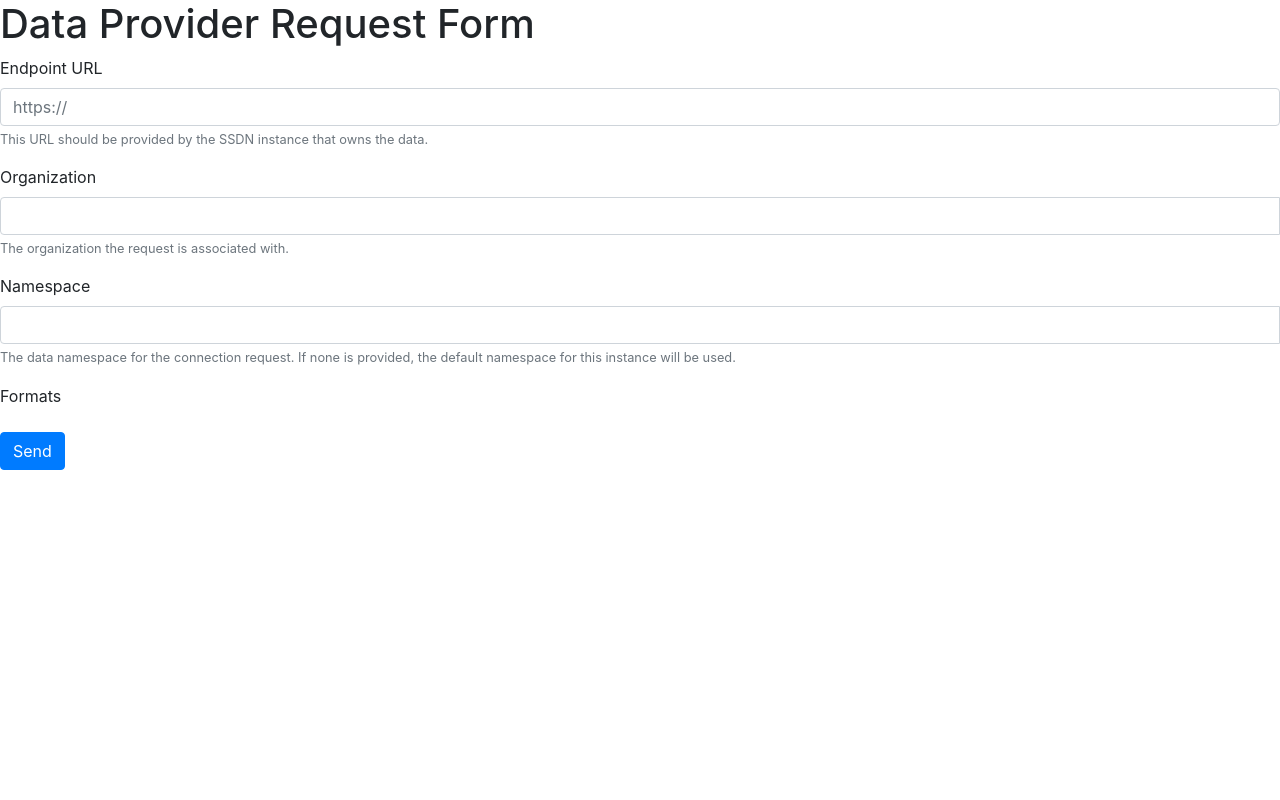
Test: <CreateConnectionRequest/> › submits a valid form and displays verification code
Type "https://ssdn.ajax.org" into the field labelled "Endpoint URL" at point(640, 107), box [0,88,1279,126]
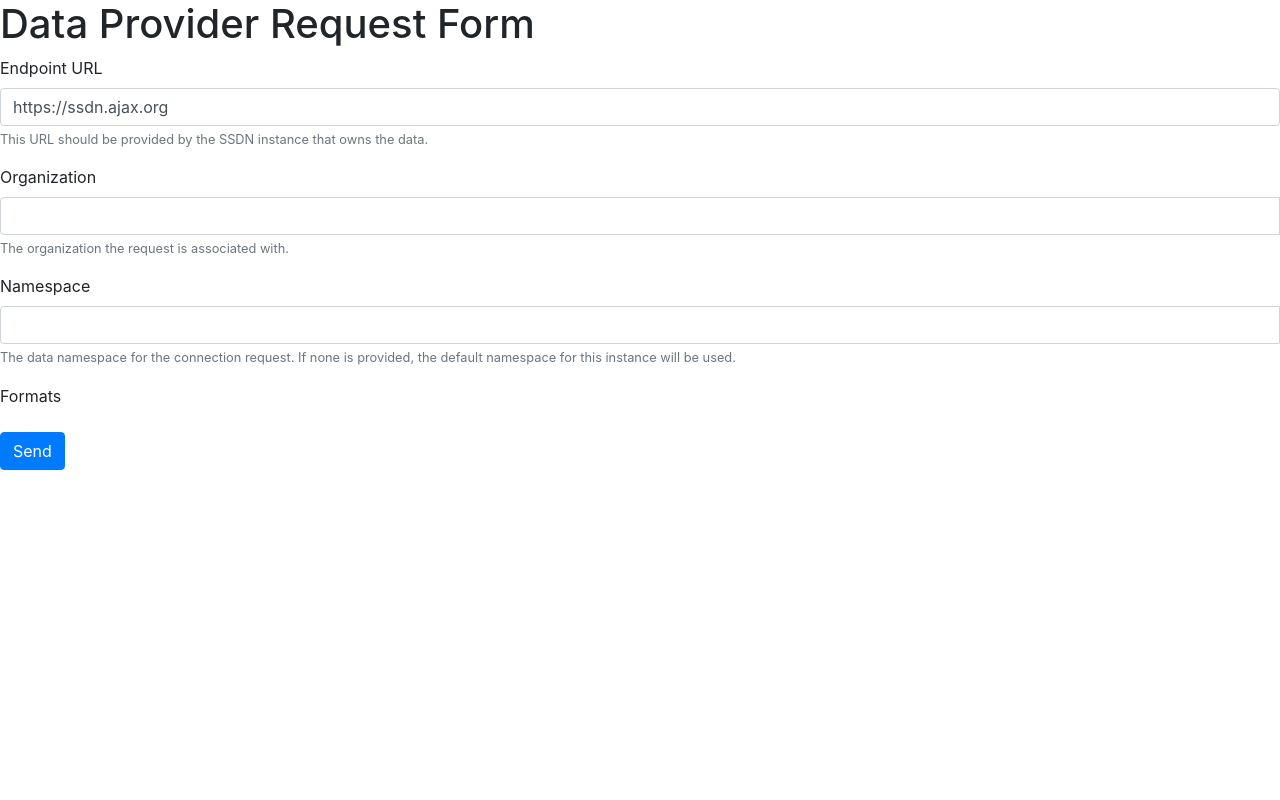
Type "Stoltenberg-Harvey" into the field labelled "Organization" at point(640, 216), box [0,197,1279,235]
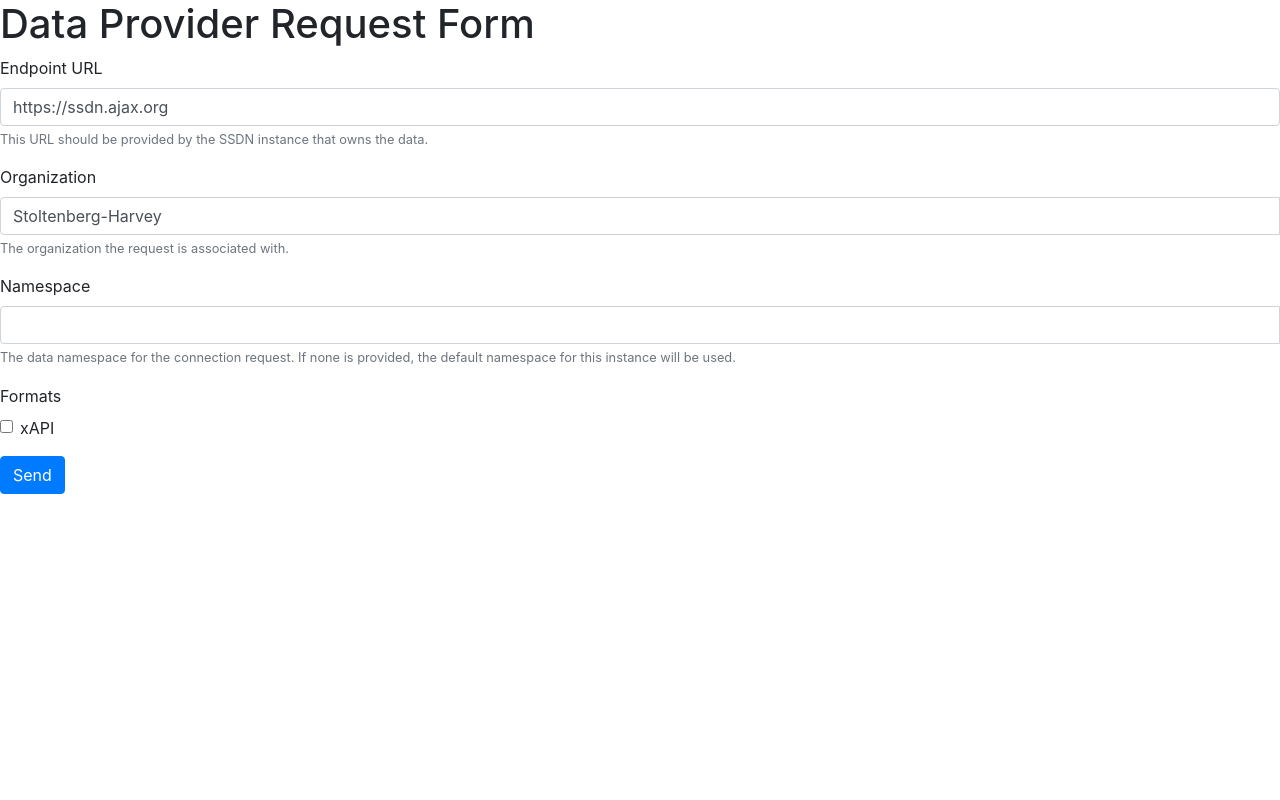
Click the text "xAPI" at point(37, 428), box [20,416,54,440]
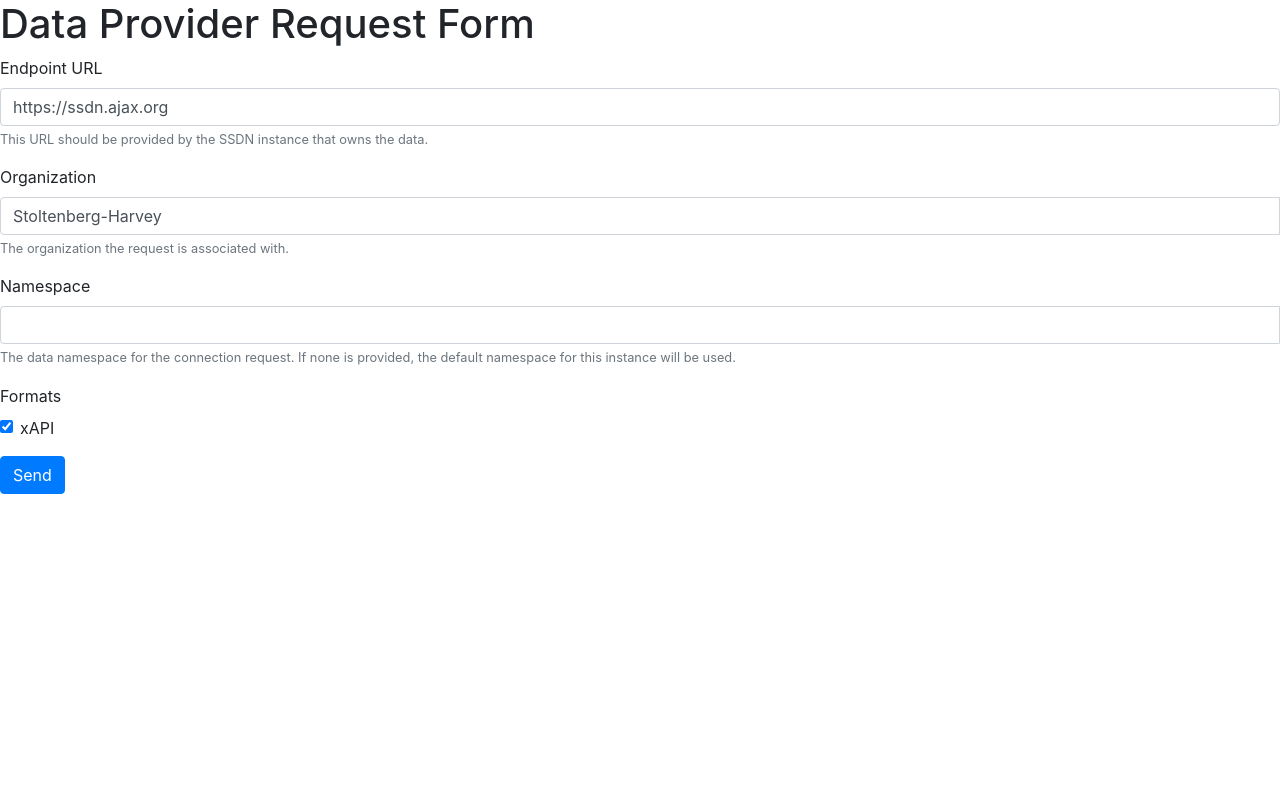
Click the button "Send" at point(32, 475), box [0,456,65,494]
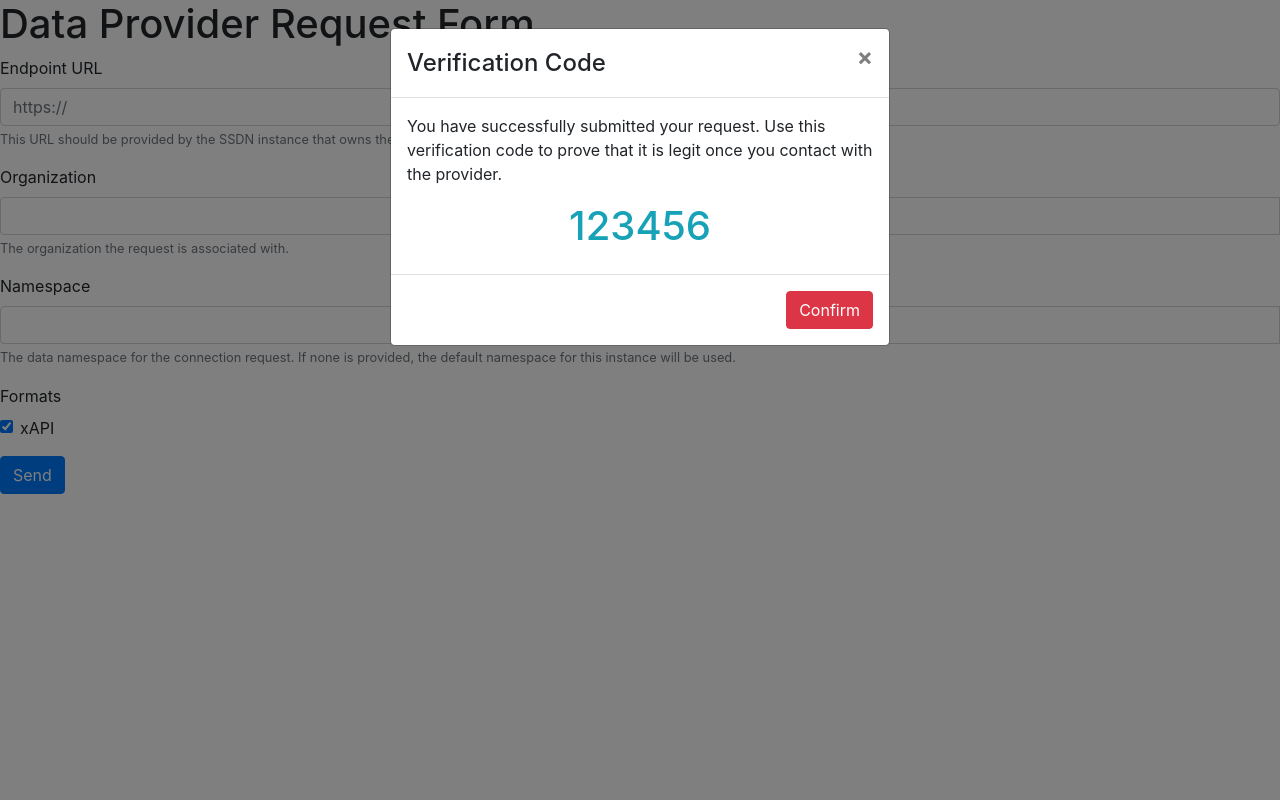
expect the dialog is shown: met, box [390,28,890,346]
